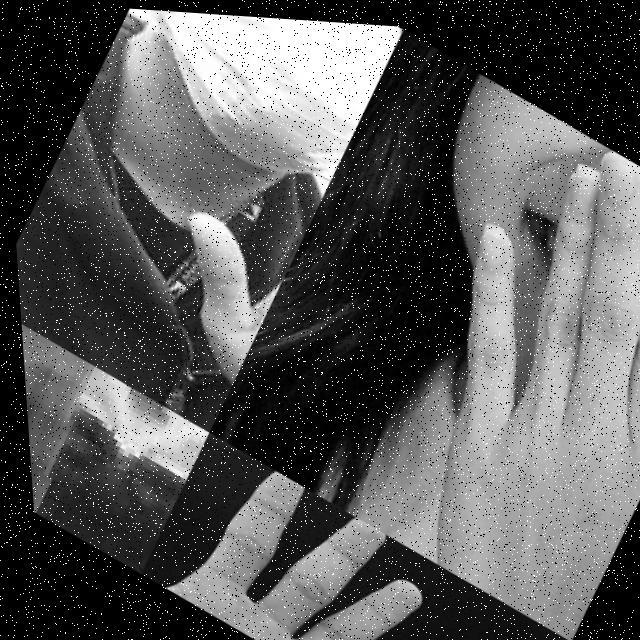no-gloves: (317, 89, 640, 638), (100, 48, 375, 414), (122, 424, 484, 640), (16, 304, 174, 555)
